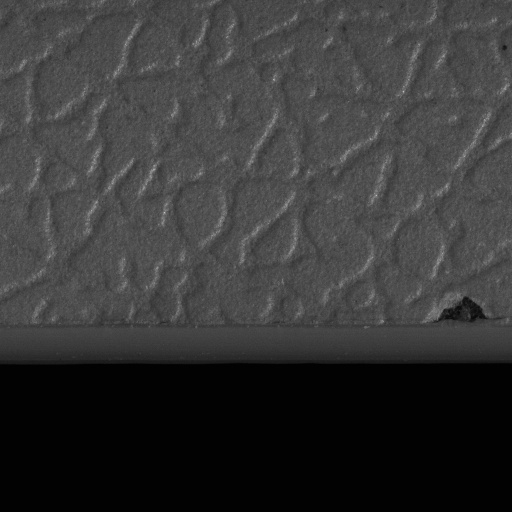bengque: (424, 295, 493, 328)
